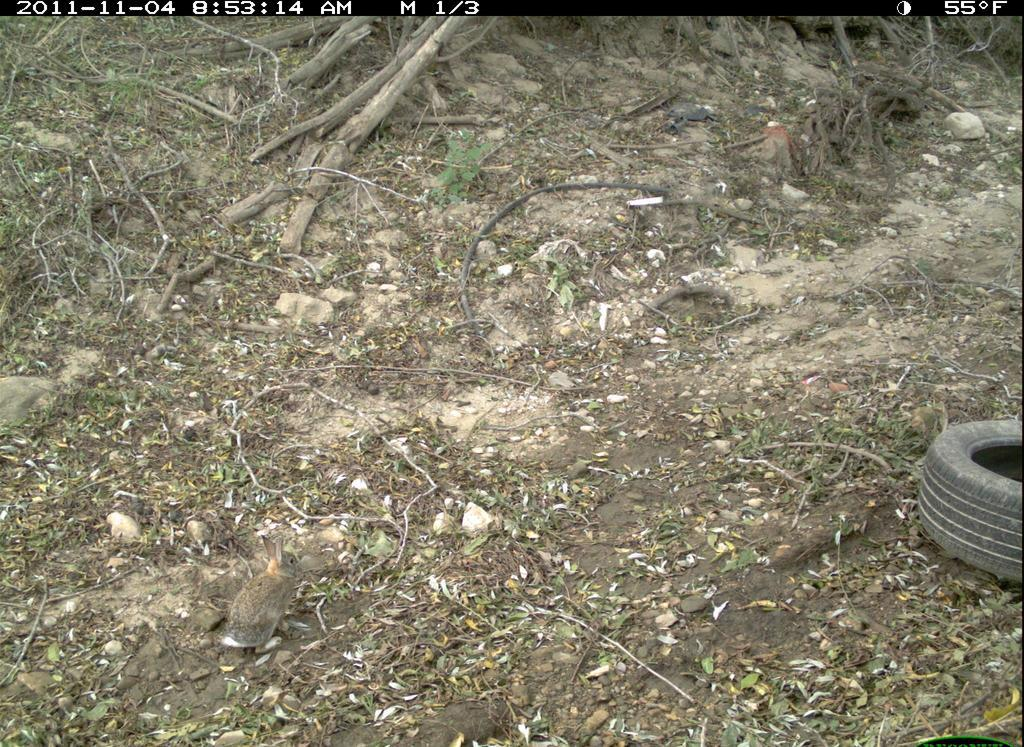rabbit: (218, 533, 315, 660)
